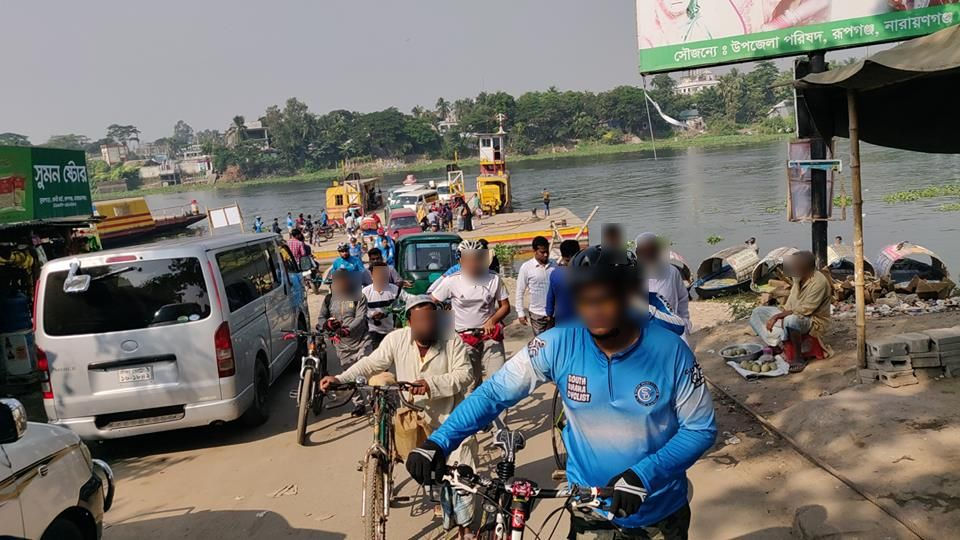bicycle: (326, 368, 440, 538), (283, 317, 341, 419)
car: (22, 223, 314, 445)
cng: (399, 232, 463, 304)
